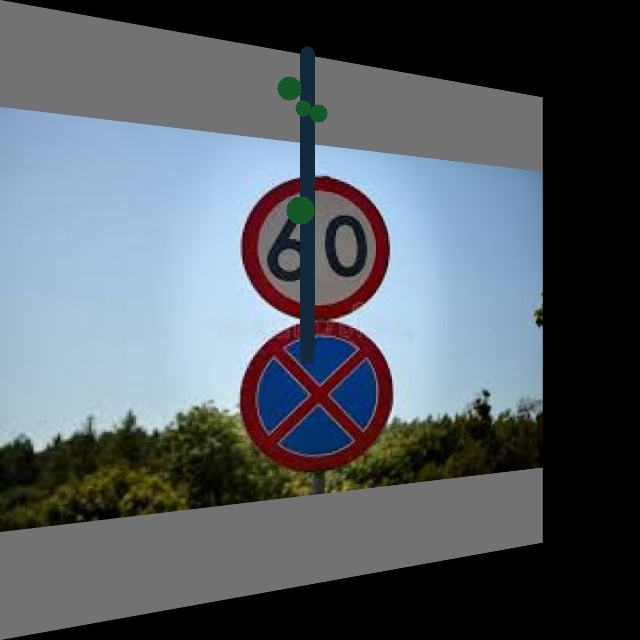Speed_Limit_60: (245, 169, 387, 320)
